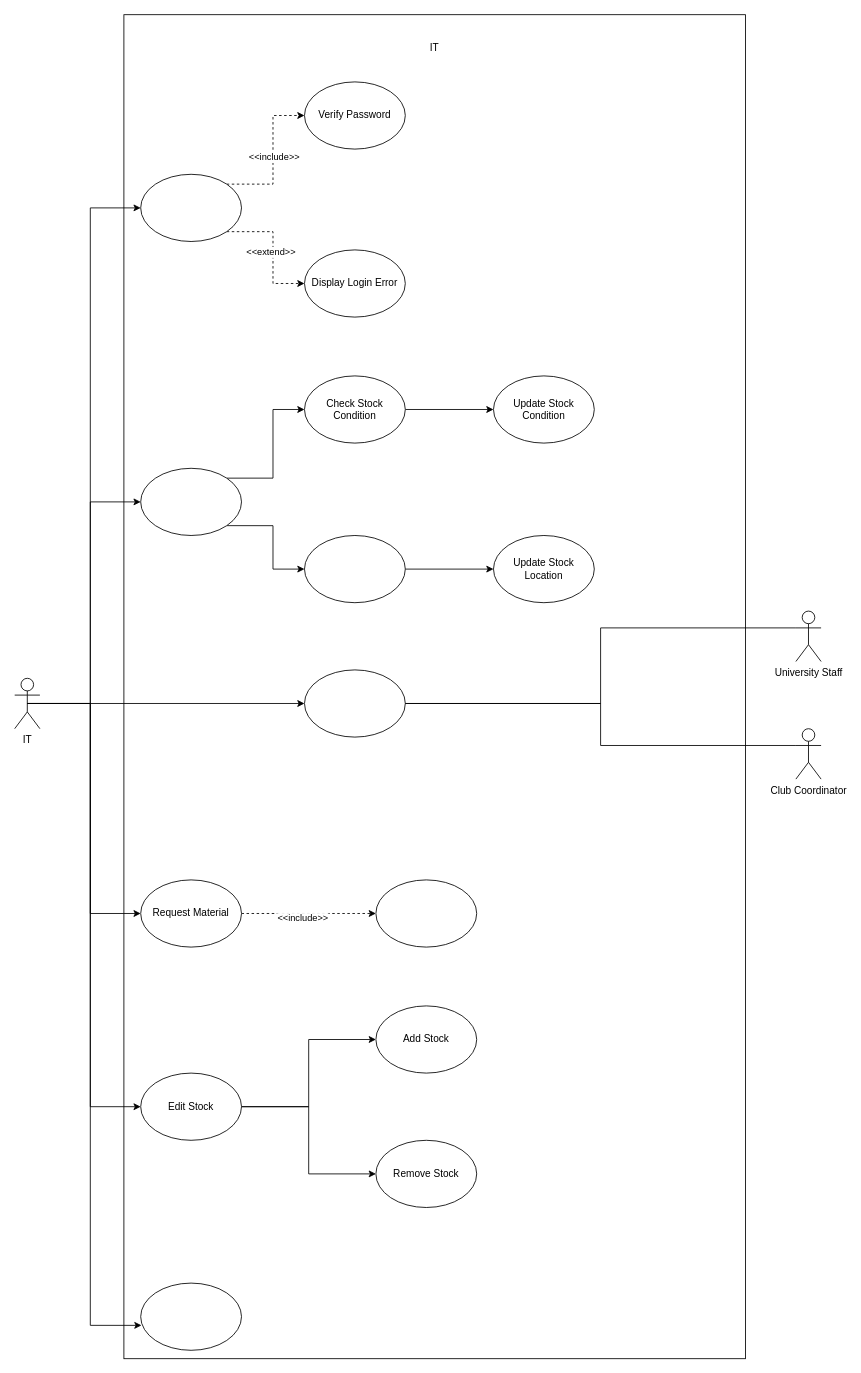
Some shapes in this 861 by 1373 pixel diagram are drawn without their labels. The shapes that lost their labels are listed below. From the top down, each one's box as (x1, y1, x2, y2) in pixels, then its label:
(140, 173, 242, 242): Login
(140, 467, 242, 536): Check Stock
(304, 535, 405, 603): Check Stock Location
(304, 669, 405, 737): Review Requests
(375, 879, 477, 947): Send Notification to Finance
(140, 1282, 242, 1350): Logout
